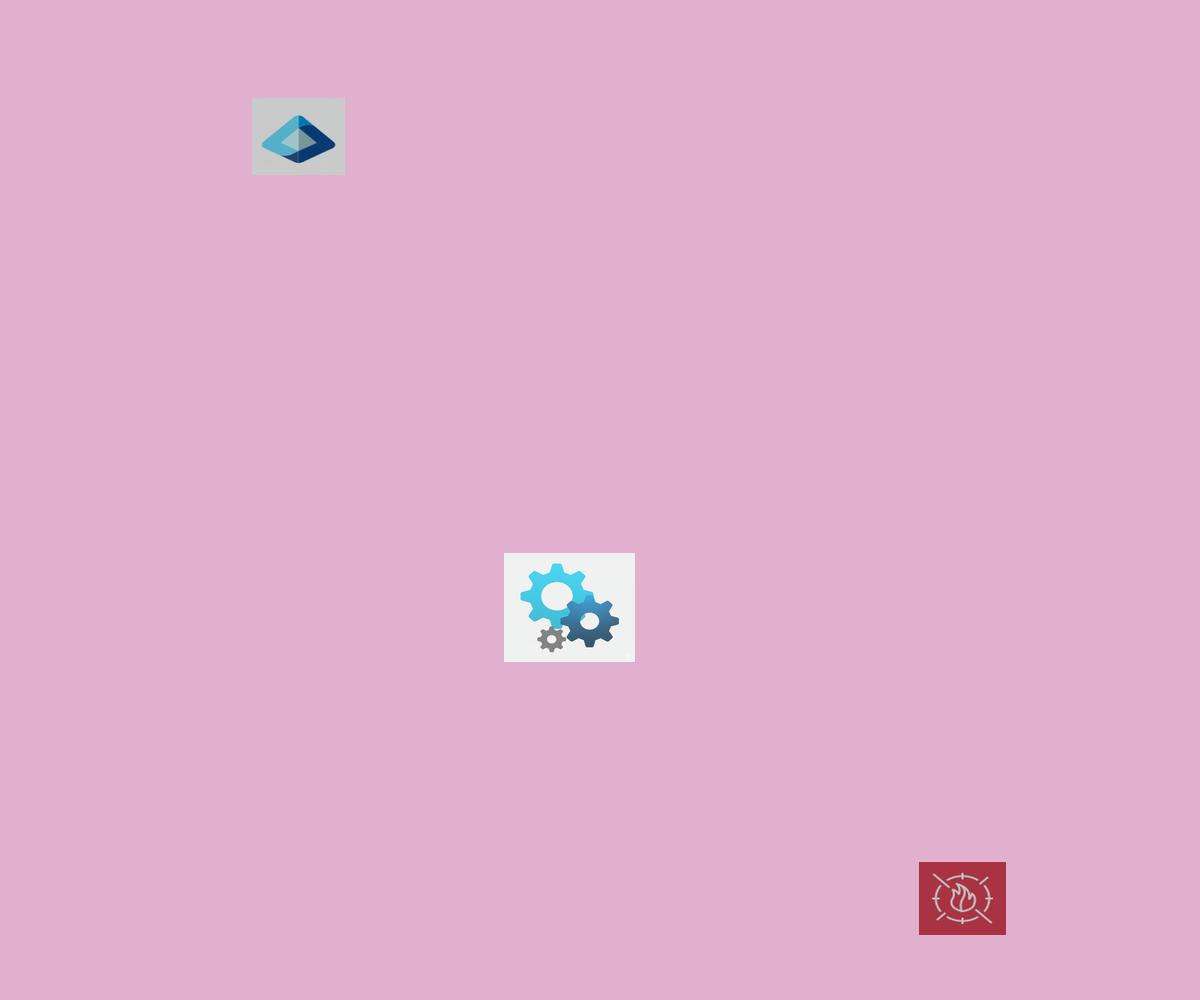AWS-WAF: (919, 862, 1006, 935)
Azure_api: (504, 553, 635, 662)
Azure_microsoft_entra: (252, 98, 345, 175)
